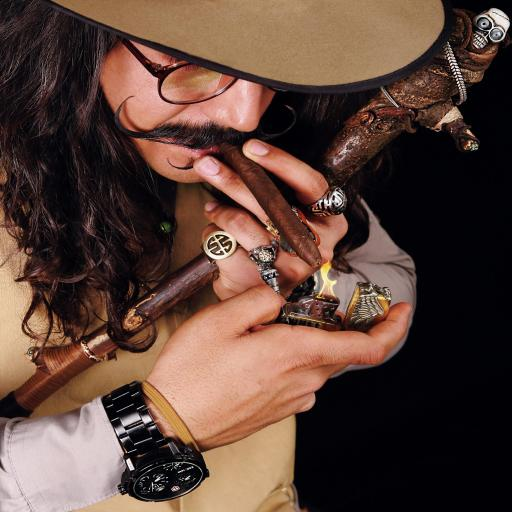lighter: (248, 250, 378, 330)
